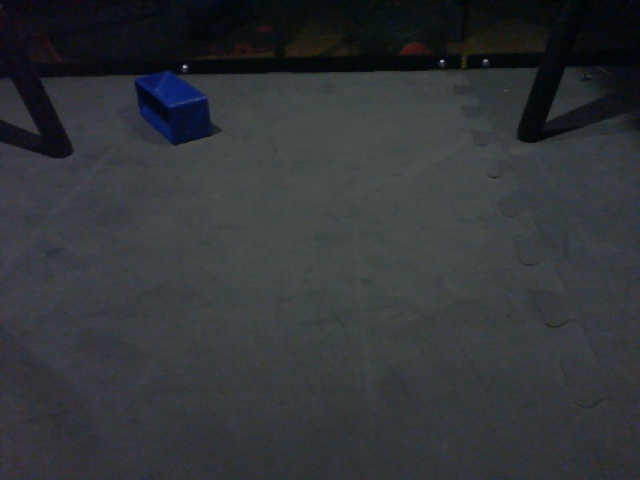BlueSample: (132, 67, 213, 145)
